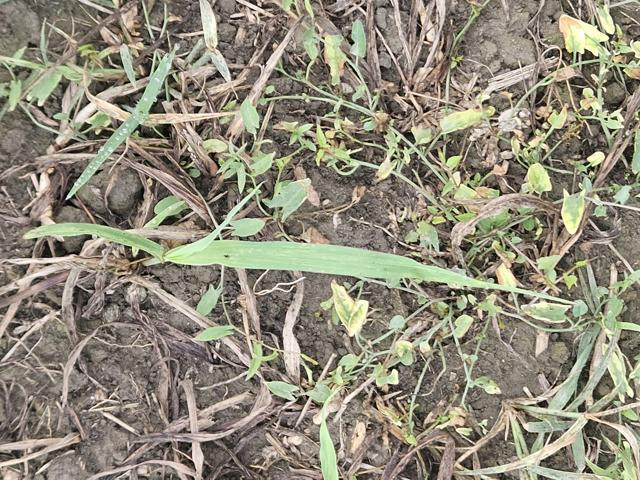bad weed: (39, 201, 555, 317), (290, 34, 487, 186), (254, 332, 461, 453), (44, 40, 213, 169), (548, 32, 640, 166), (529, 359, 630, 455)
